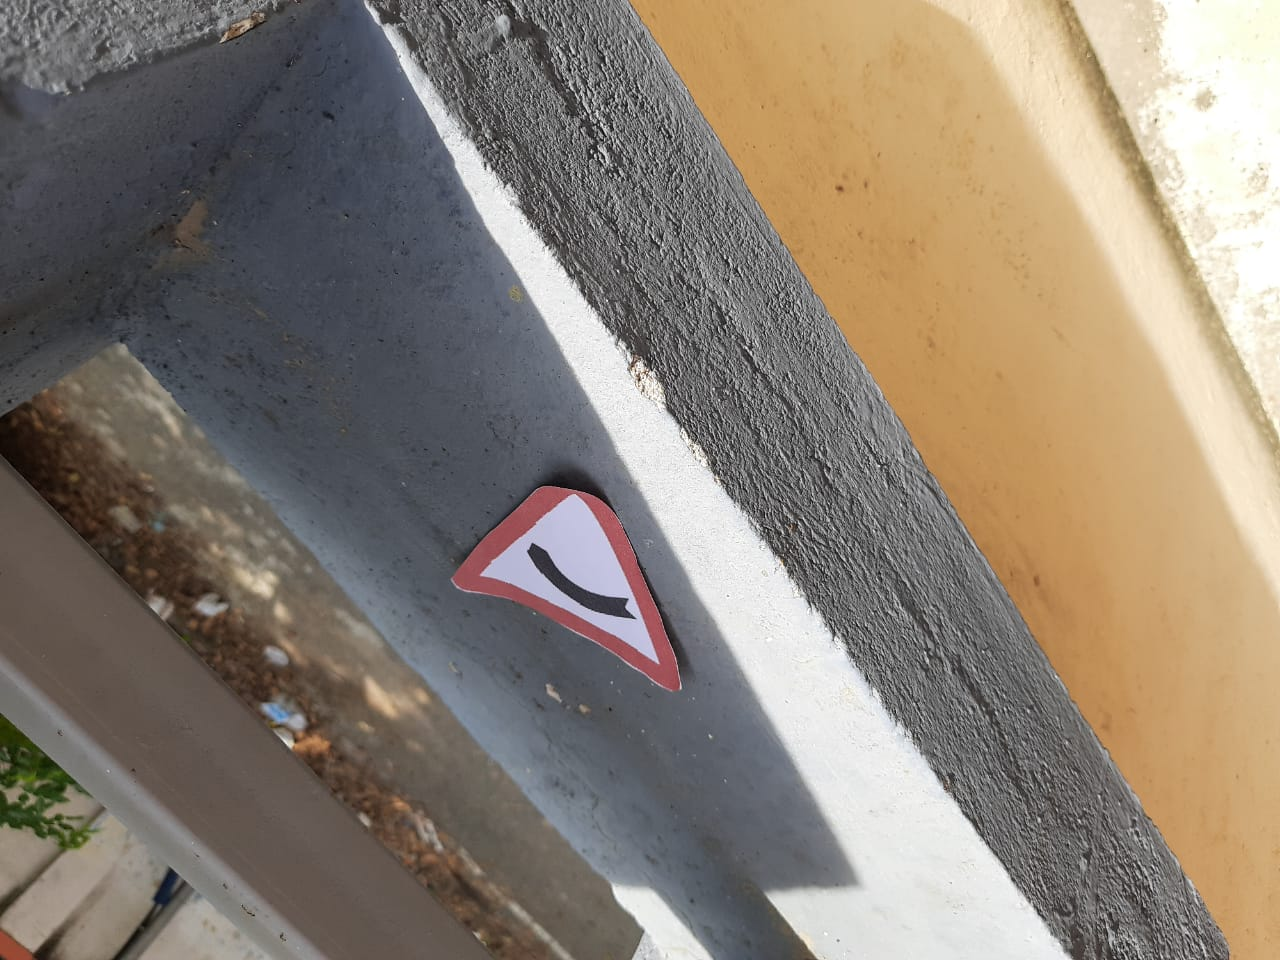RIGHT CURVE: (400, 440, 694, 695)
